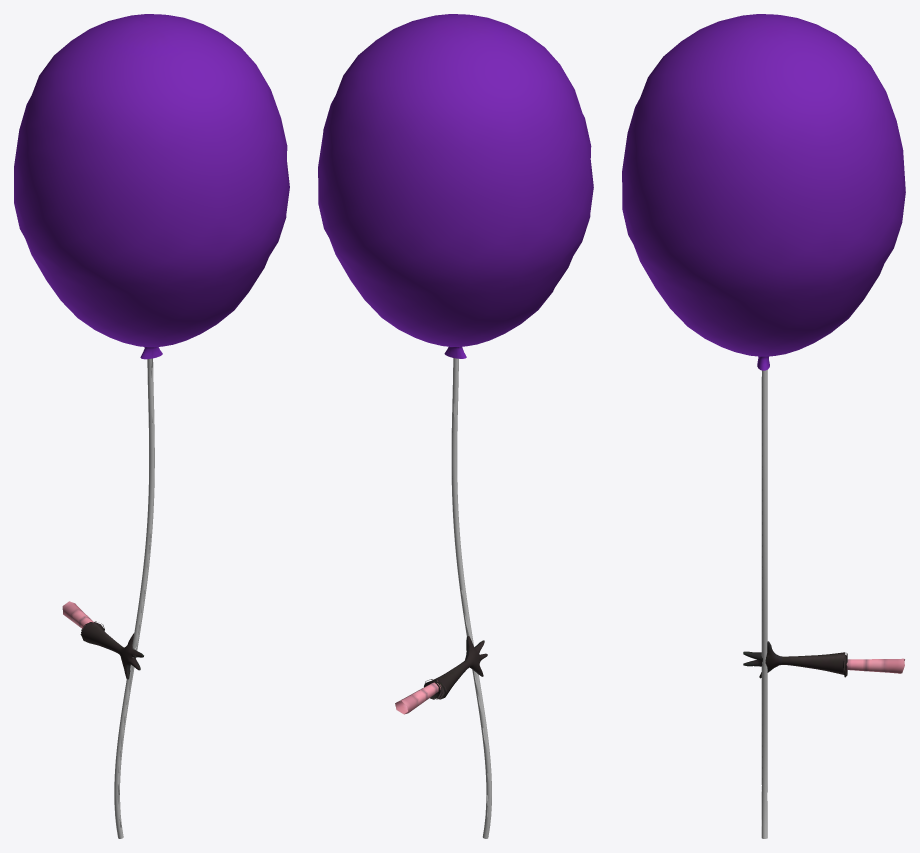
The model's file is NPCbrazoglobos.obj.
3 views of the same model, side by side, from view 1: azimuth 30°, elevation 25°; view 2: azimuth 150°, elevation 25°; view 3: azimuth 270°, elevation 25° (orthographic). The views are drawn at different scales.
Parts seen in each view (by area): view 1: Esfera_Material.007_0.001; view 2: Esfera_Material.007_0.001; view 3: Esfera_Material.007_0.001.
Part boxes in pixels (x1=…): Esfera_Material.007_0.001: x1=14, y1=14, x2=289, y2=838; Esfera_Material.007_0.001: x1=318, y1=14, x2=593, y2=838; Esfera_Material.007_0.001: x1=622, y1=14, x2=905, y2=838.
Size of the model in its own units: 1.92 by 6.19 by 1.93.
3 materials, 2 textured.
